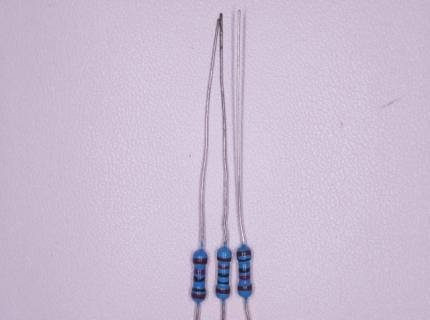Black band: (237, 257, 251, 264), (191, 287, 206, 292), (193, 276, 205, 282), (238, 268, 251, 273), (217, 273, 229, 278), (217, 280, 229, 285)
Brown band: (236, 249, 252, 257), (191, 292, 207, 300), (237, 284, 253, 291), (193, 258, 208, 265), (216, 288, 231, 295), (216, 256, 232, 262)
Red band: (238, 275, 251, 281), (193, 269, 206, 275), (218, 264, 230, 270)
